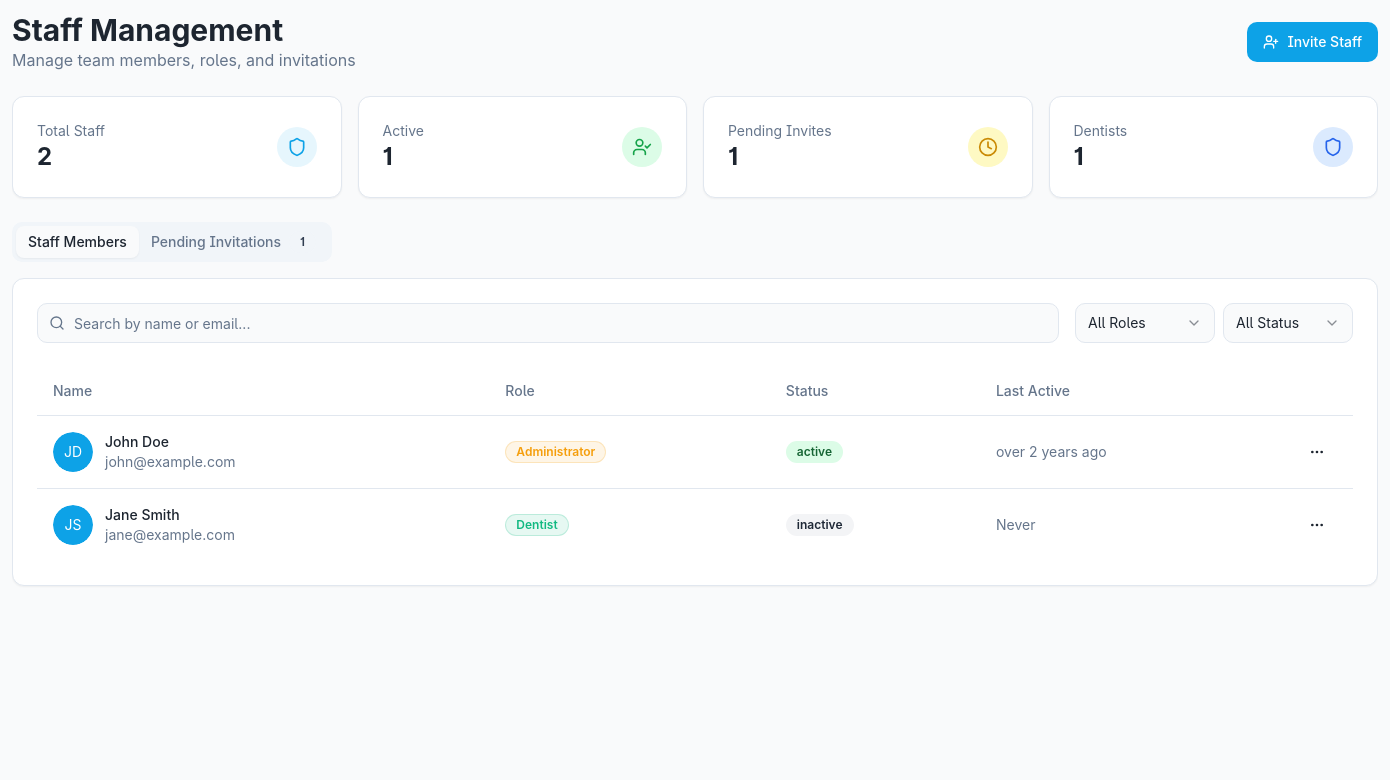
StaffManagement Page › renders page heading and loads staff and invitations
Check: the text "John Doe" is shown, box [105, 432, 169, 450]
Check: the text "Jane Smith" is shown, box [105, 506, 180, 522]
// Switch to Pending Invitations tab
Click the tab "Pending Invitations 1". click: point(233, 242)
box: [139, 225, 328, 259]
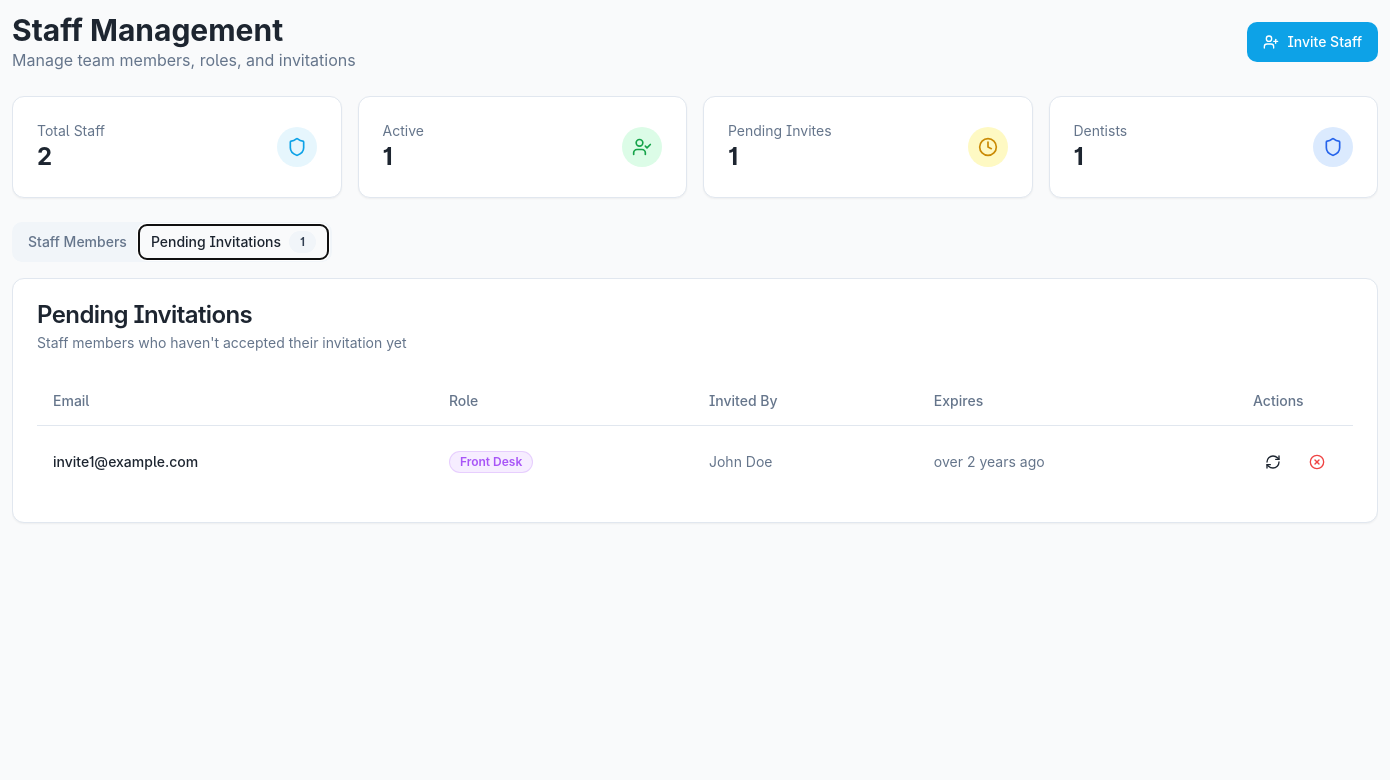
Check: the text "invite1@example.com" is shown, box [37, 425, 433, 498]
